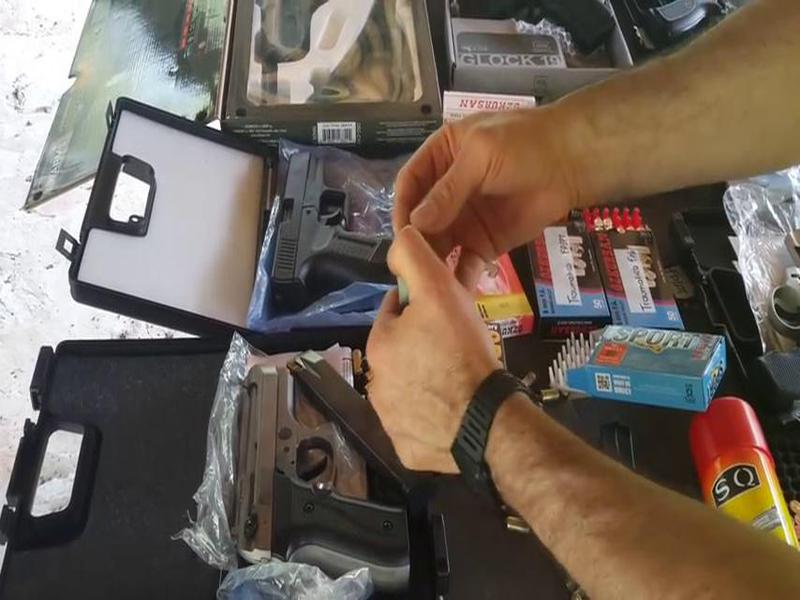Pistola: (224, 354, 413, 584), (272, 131, 401, 296)
